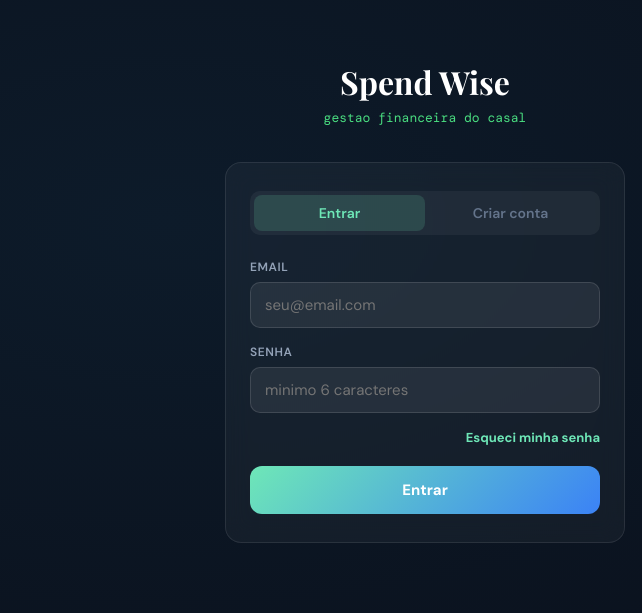
Test case: AuthScreen › requires a name before signup
Click the button "Criar conta" at (510, 212), box [425,194,596,230]
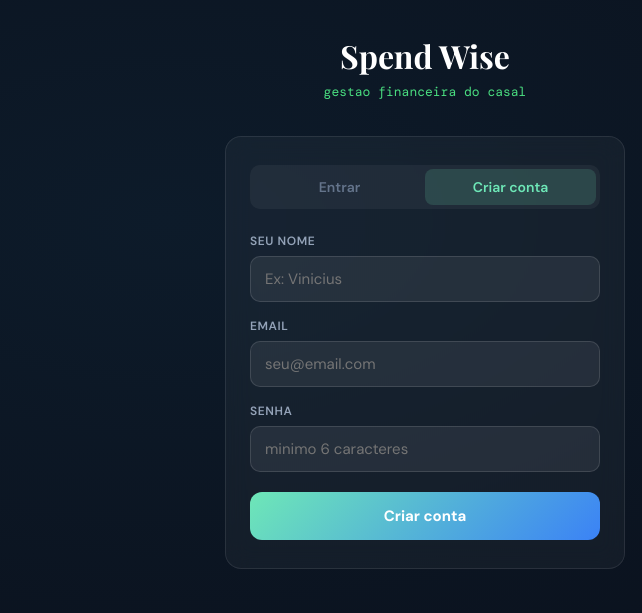
Type "felipe@test.com" into the field with placeholder "seu@email.com" at (425, 364), box [250,340,600,386]
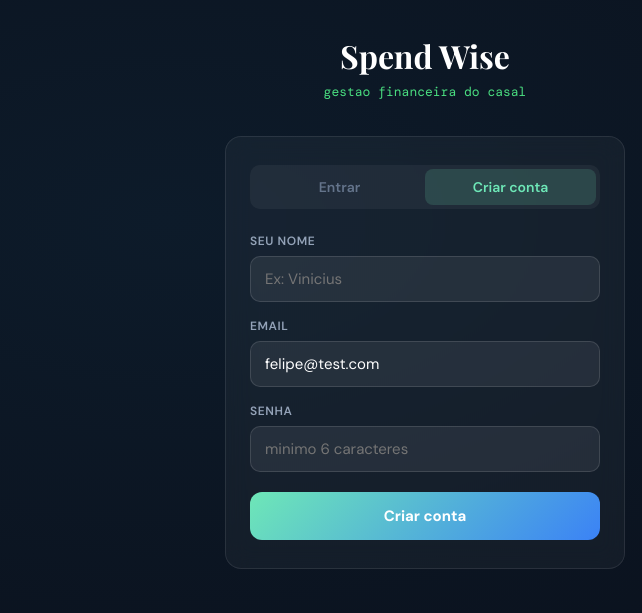
Type "123456" into the password field with placeholder "minimo 6 caracteres" at (425, 448), box [250,426,600,472]
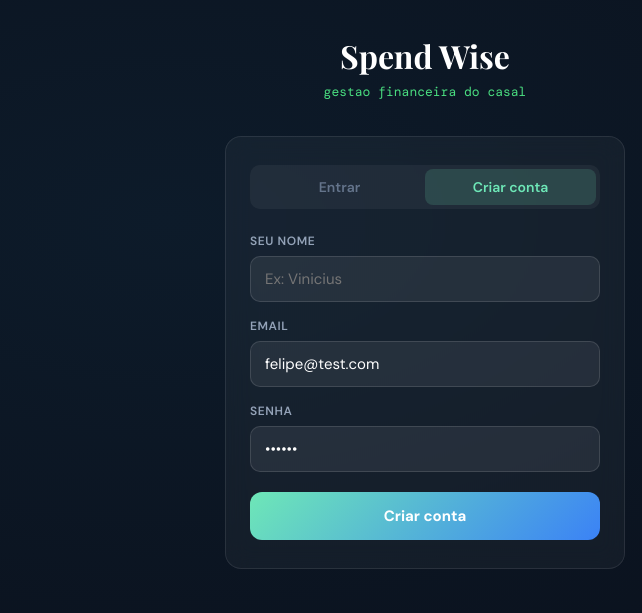
Click the button "Criar conta" below "Senha" at (425, 516), box [250,492,600,540]
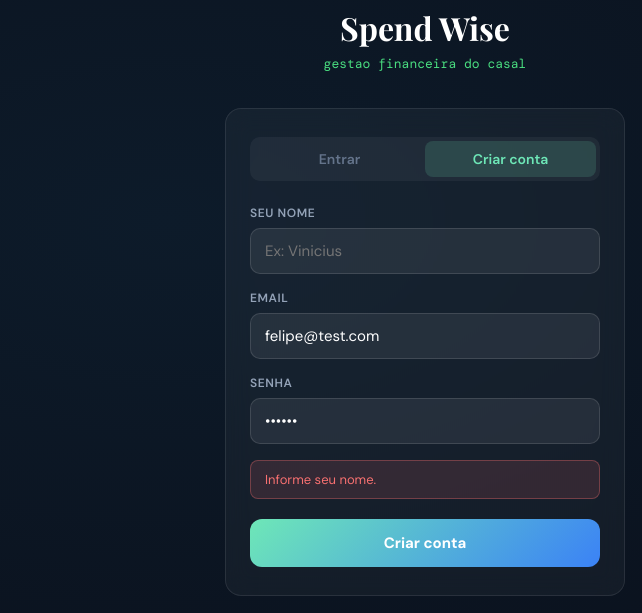
Check: the text "Informe seu nome." is shown, box [250,460,600,499]
